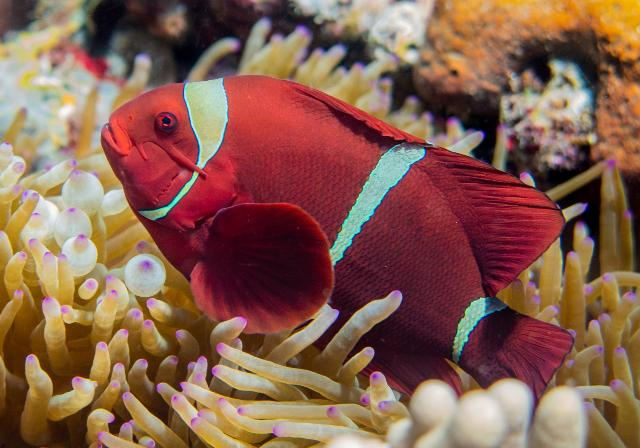Mulut: (86, 97, 140, 170)
Sirip Dada: (173, 192, 349, 354)
Sirip Ekor: (464, 294, 584, 416)
Sirip Punggung: (288, 68, 578, 306)
